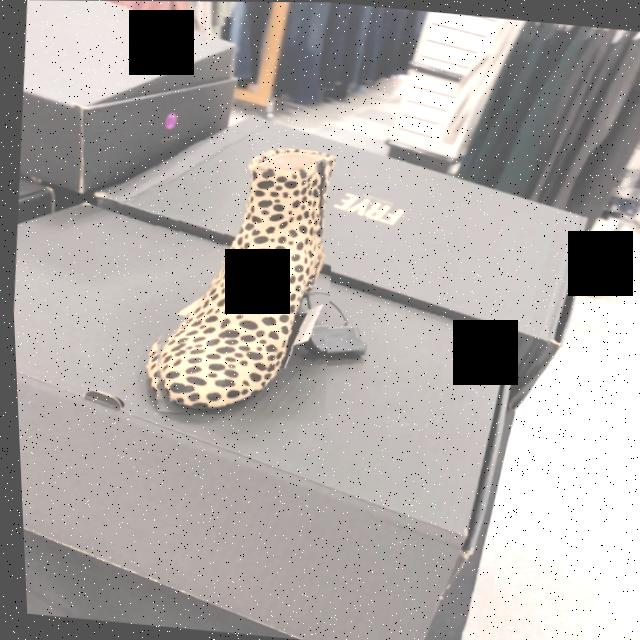shoe: (150, 147, 334, 414)
